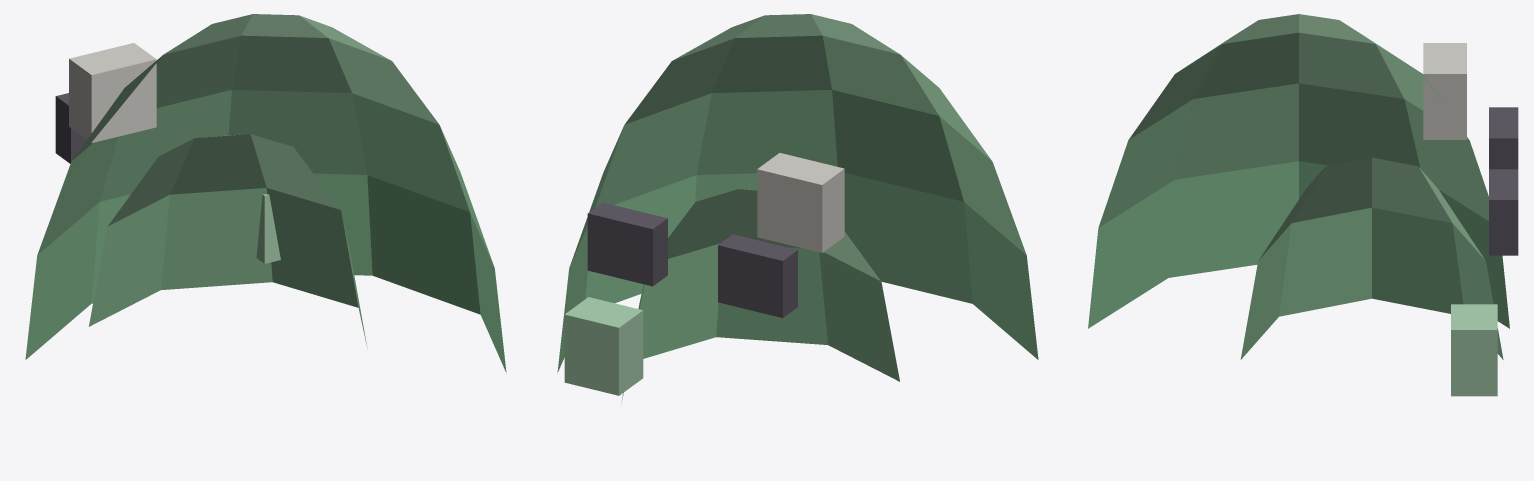
Rendered from enemy_slime.glb.
The picture shows the model from 3 angles, left to right: view 1: azimuth 30°, elevation 25°; view 2: azimuth 150°, elevation 25°; view 3: azimuth 270°, elevation 25°; orthographic projection. The views are drawn at different scales.
Parts seen in each view (by area): view 1: mesh0; view 2: mesh0; view 3: mesh0.
Part boxes in pixels (box(x1,y1,x2,y2)): mesh0: box(25, 14, 506, 373); mesh0: box(557, 14, 1038, 403); mesh0: box(1088, 14, 1518, 396).
Size of the model in its own units: 0.69 by 0.5 by 0.6037.
